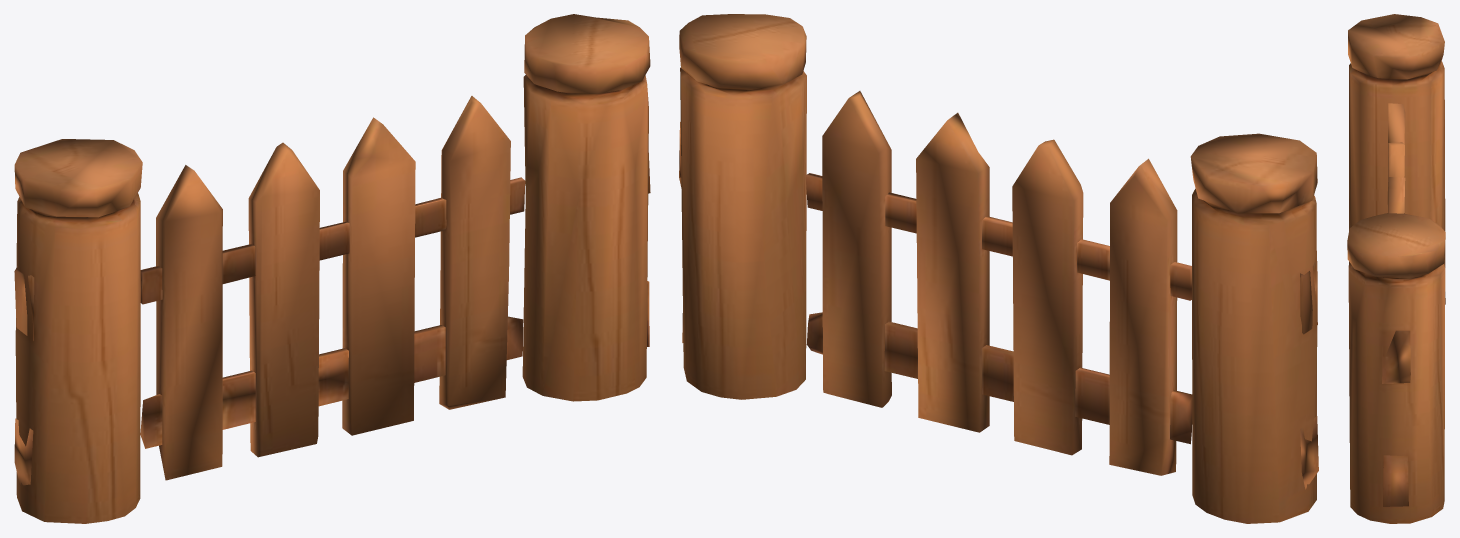
File: fence_low_2.glb
The picture shows the model from 3 angles, left to right: view 1: azimuth 30°, elevation 25°; view 2: azimuth 150°, elevation 25°; view 3: azimuth 270°, elevation 25°; orthographic projection. The views are drawn at different scales.
Parts seen in each view (by area): view 1: ЦІЛЬ; view 2: ЦІЛЬ; view 3: ЦІЛЬ.
Part boxes in pixels (x1=…): ЦІЛЬ: x1=14, y1=14, x2=650, y2=523; ЦІЛЬ: x1=679, y1=14, x2=1318, y2=523; ЦІЛЬ: x1=1347, y1=14, x2=1445, y2=523.
Size of the model in its own units: 0.9495 by 0.4959 by 0.1635.
1 material, 1 textured.
